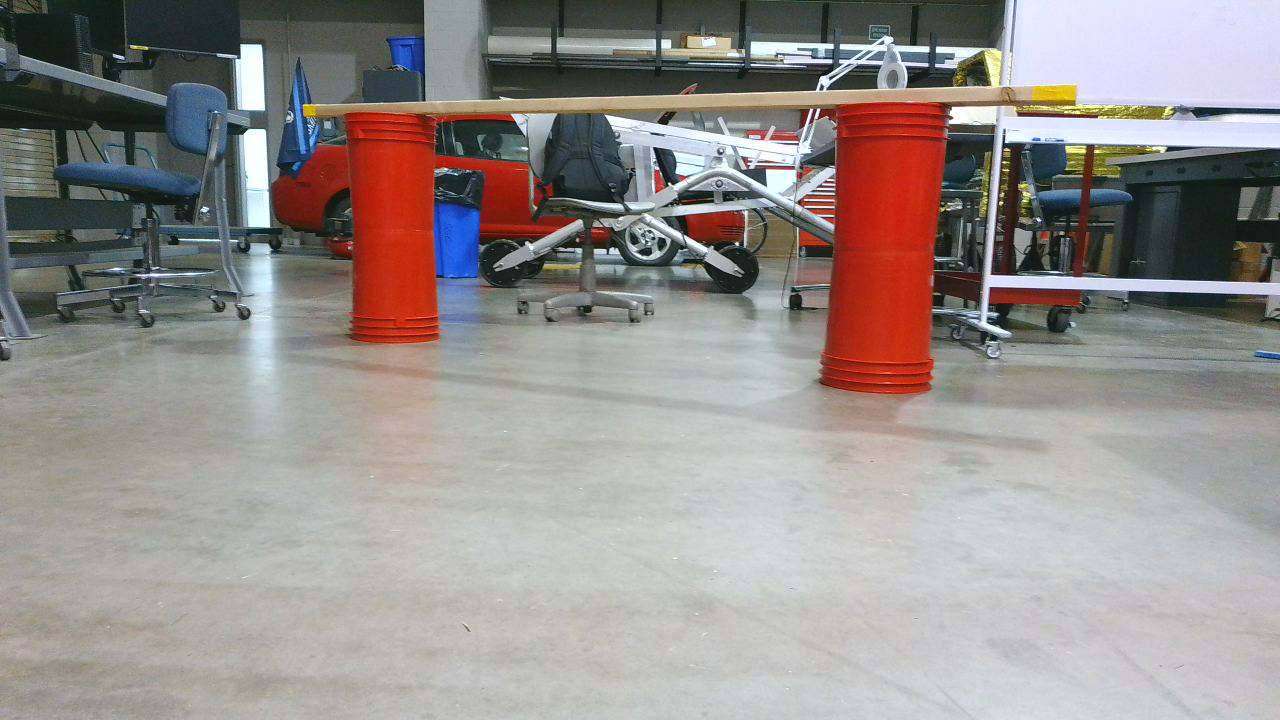red_bucket_arch: (350, 92, 956, 401)
